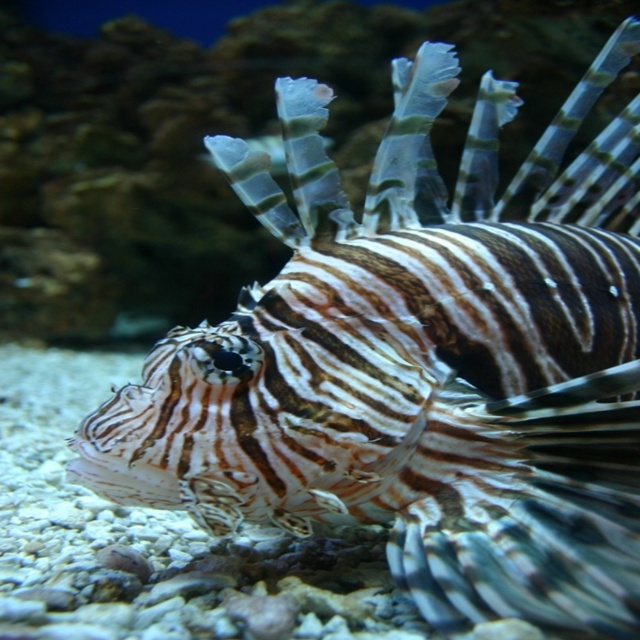Fish: (65, 16, 640, 639)
